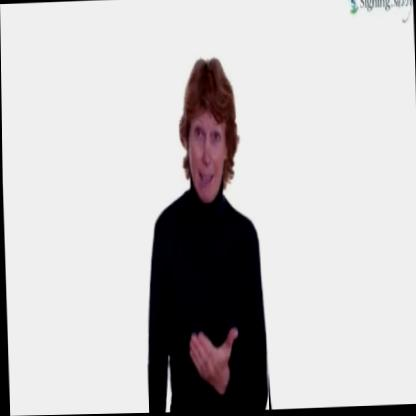ThankYou: (137, 53, 267, 414)
